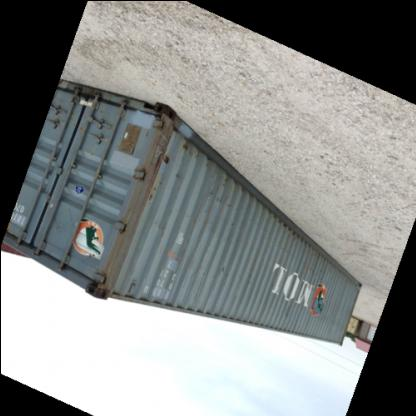Damage: (282, 250, 327, 325), (206, 174, 246, 212), (178, 138, 219, 166), (147, 128, 170, 174), (263, 220, 297, 246), (144, 178, 165, 204), (150, 218, 166, 236), (216, 261, 230, 279), (172, 172, 182, 182)
